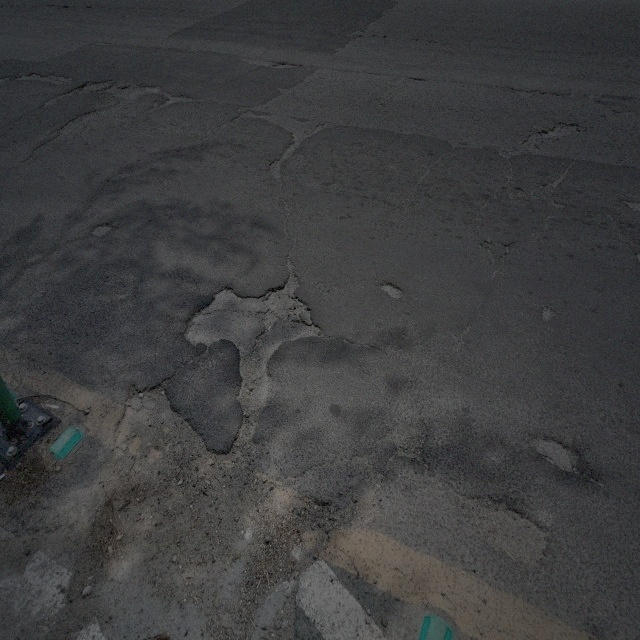pothole: (179, 262, 321, 442), (112, 376, 207, 470), (458, 489, 550, 572), (61, 86, 168, 142), (268, 122, 319, 185), (530, 430, 580, 477), (53, 74, 118, 103), (137, 84, 195, 113), (520, 124, 582, 148), (23, 71, 72, 86), (378, 278, 404, 302), (90, 221, 112, 241), (272, 60, 301, 72)
